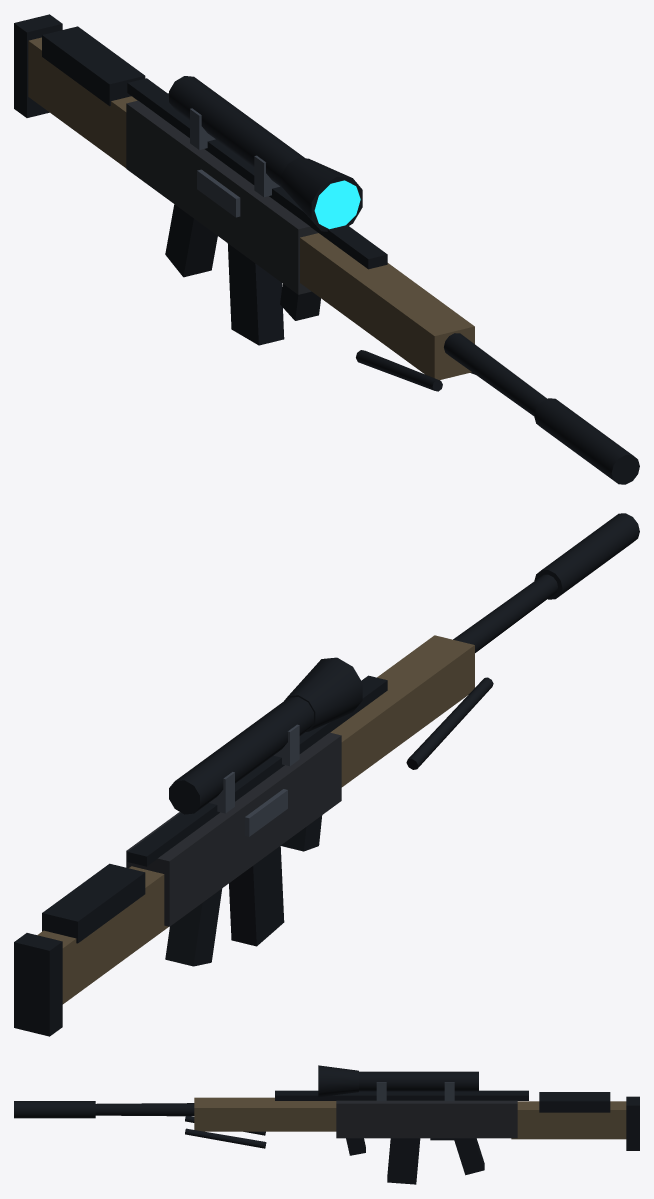
3 renders of one model, top to bottom at view 1: azimuth 30°, elevation 25°; view 2: azimuth 150°, elevation 25°; view 3: azimuth 270°, elevation 25°, orthographic. The views are drawn at different scales.
Parts seen in each view (by area): view 1: Weapon_mk14; view 2: Weapon_mk14; view 3: Weapon_mk14.
Part boxes in pixels (bbox=[...]): Weapon_mk14: bbox=[14, 14, 639, 484]; Weapon_mk14: bbox=[14, 513, 639, 1036]; Weapon_mk14: bbox=[14, 1065, 639, 1184].
Bounding box in the file's own units: 0.084 × 0.2793 × 1.38.
